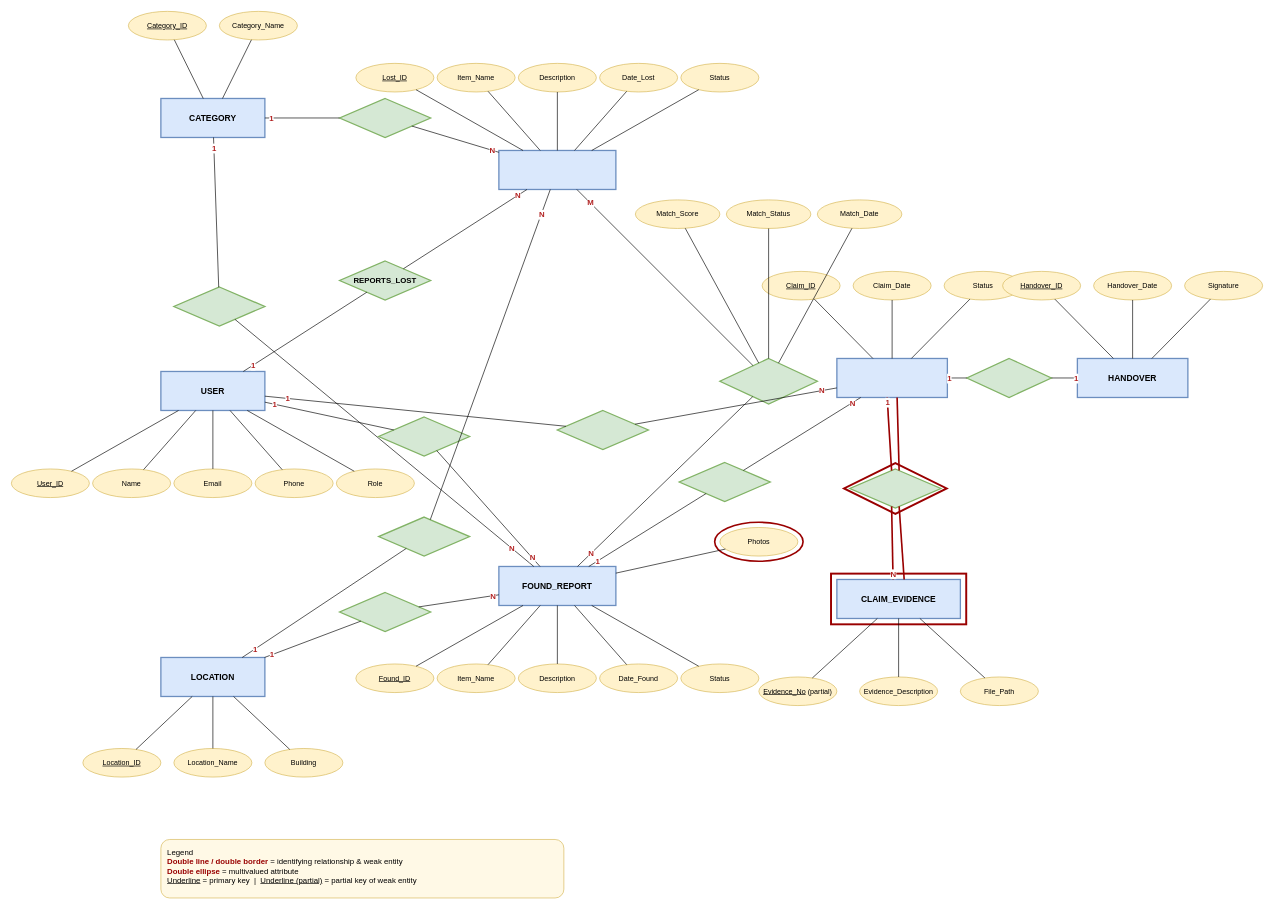
This 1274x909 diagram has some shape labels left out. Each missing label, with the box of its shape:
CATEGORIZES: (339, 98, 431, 138)
CATEGORIZES_F: (173, 286, 265, 326)
CLAIM: (836, 358, 948, 398)
CLAIMS_ITEM: (678, 462, 771, 502)
FILES: (556, 410, 649, 450)
HAS_EVIDENCE: (849, 468, 941, 508)
LOCATED_AT_F: (339, 592, 431, 632)
LOCATED_AT_L: (378, 516, 470, 556)
LOST_REPORT: (498, 150, 616, 190)
MATCHES: (719, 358, 818, 404)
REPORTS_FOUND: (378, 416, 470, 456)
RESULTS_IN: (966, 358, 1052, 398)
